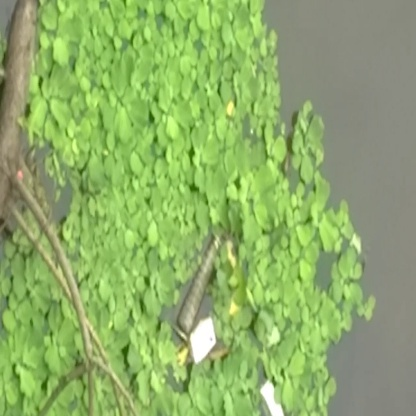branch: (11, 172, 140, 405)
